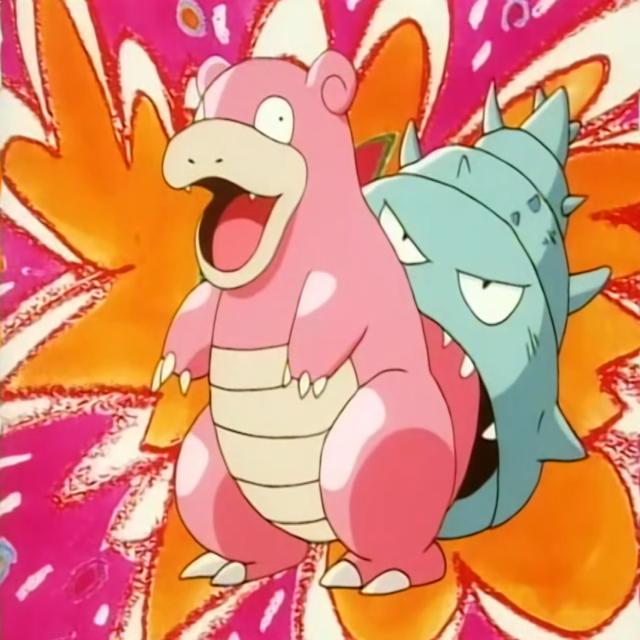Slowbro: (164, 53, 532, 580)
